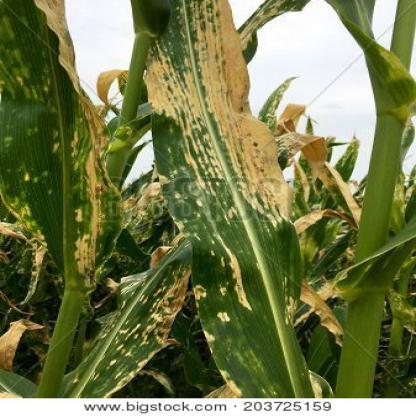corn leaf blight: (139, 1, 337, 412), (1, 1, 111, 300), (65, 227, 194, 414)
